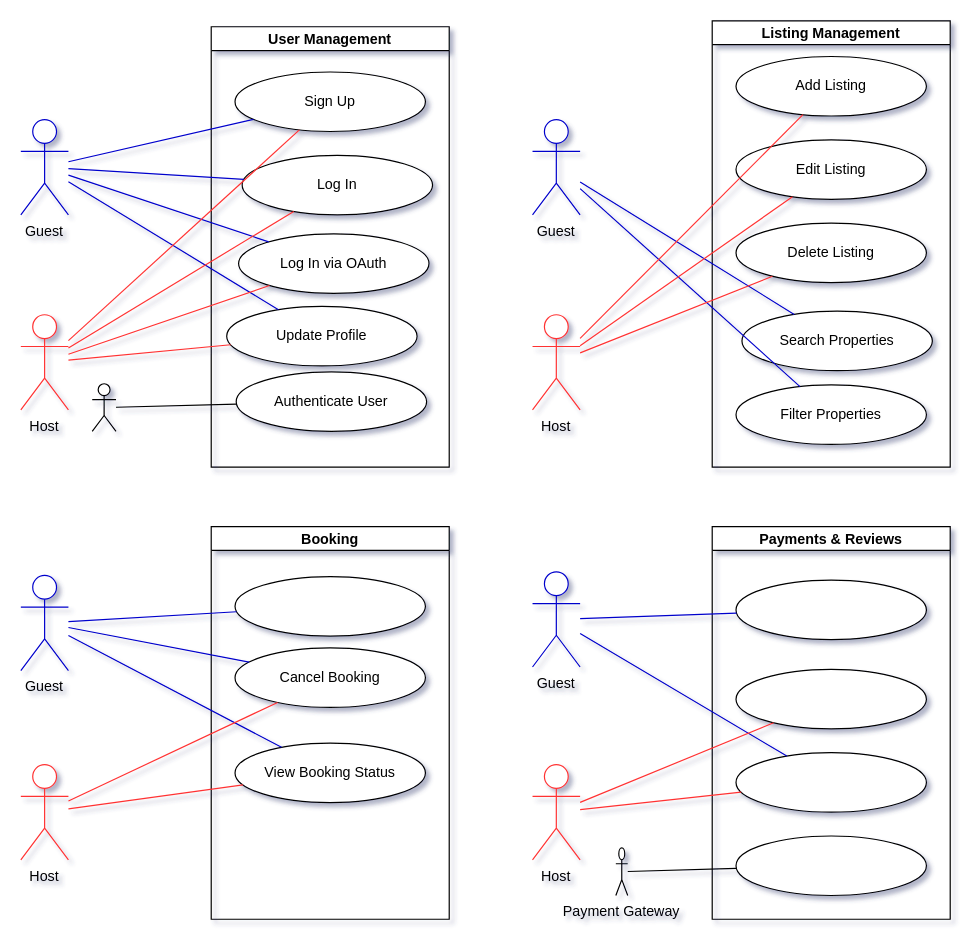
Image size: 978x948. Some labels were removed from this diagram. Each missing label, with the centre of its shape:
Create Booking: (329,605)
Leave Review: (830,781)
OAuth Provider: (103,407)
Pay for Booking: (830,609)
Process Payment: (830,865)
Receive Payout: (830,698)
